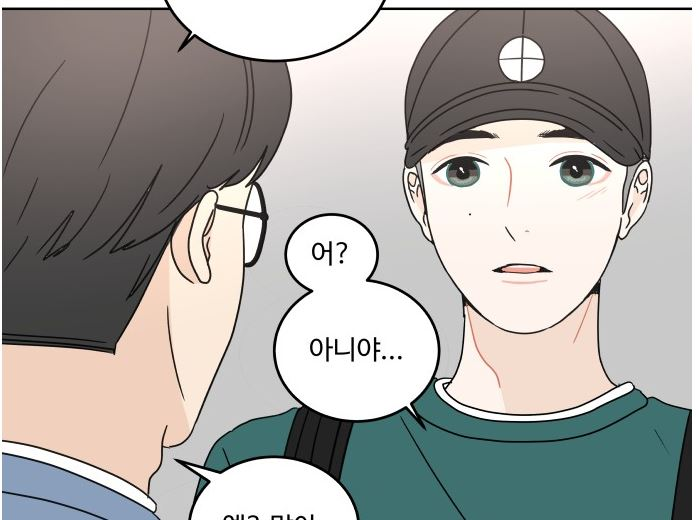hat: (403, 11, 651, 166)
